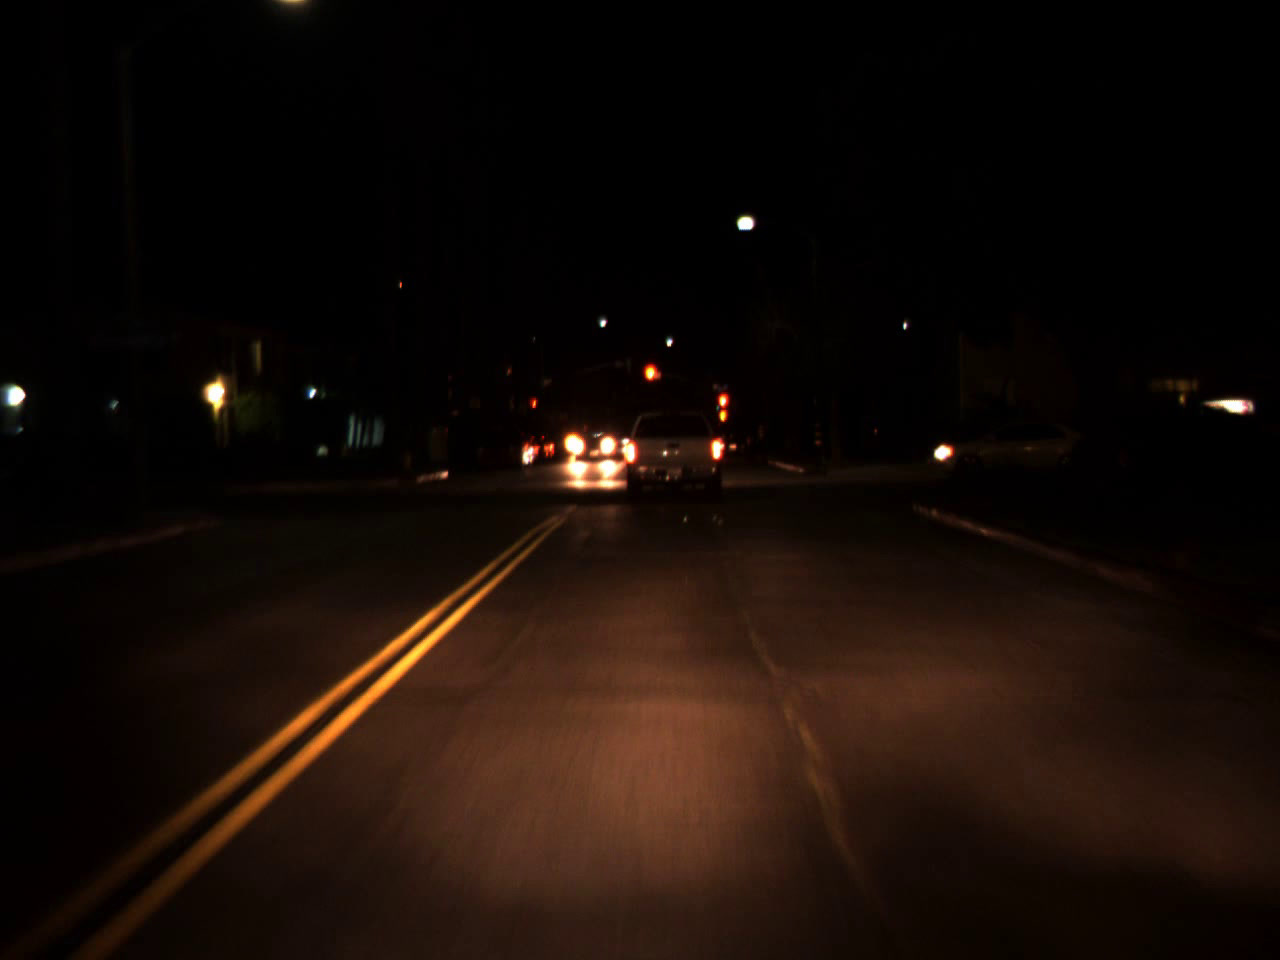stop: (641, 361, 660, 401), (716, 390, 729, 427), (531, 398, 537, 419)
